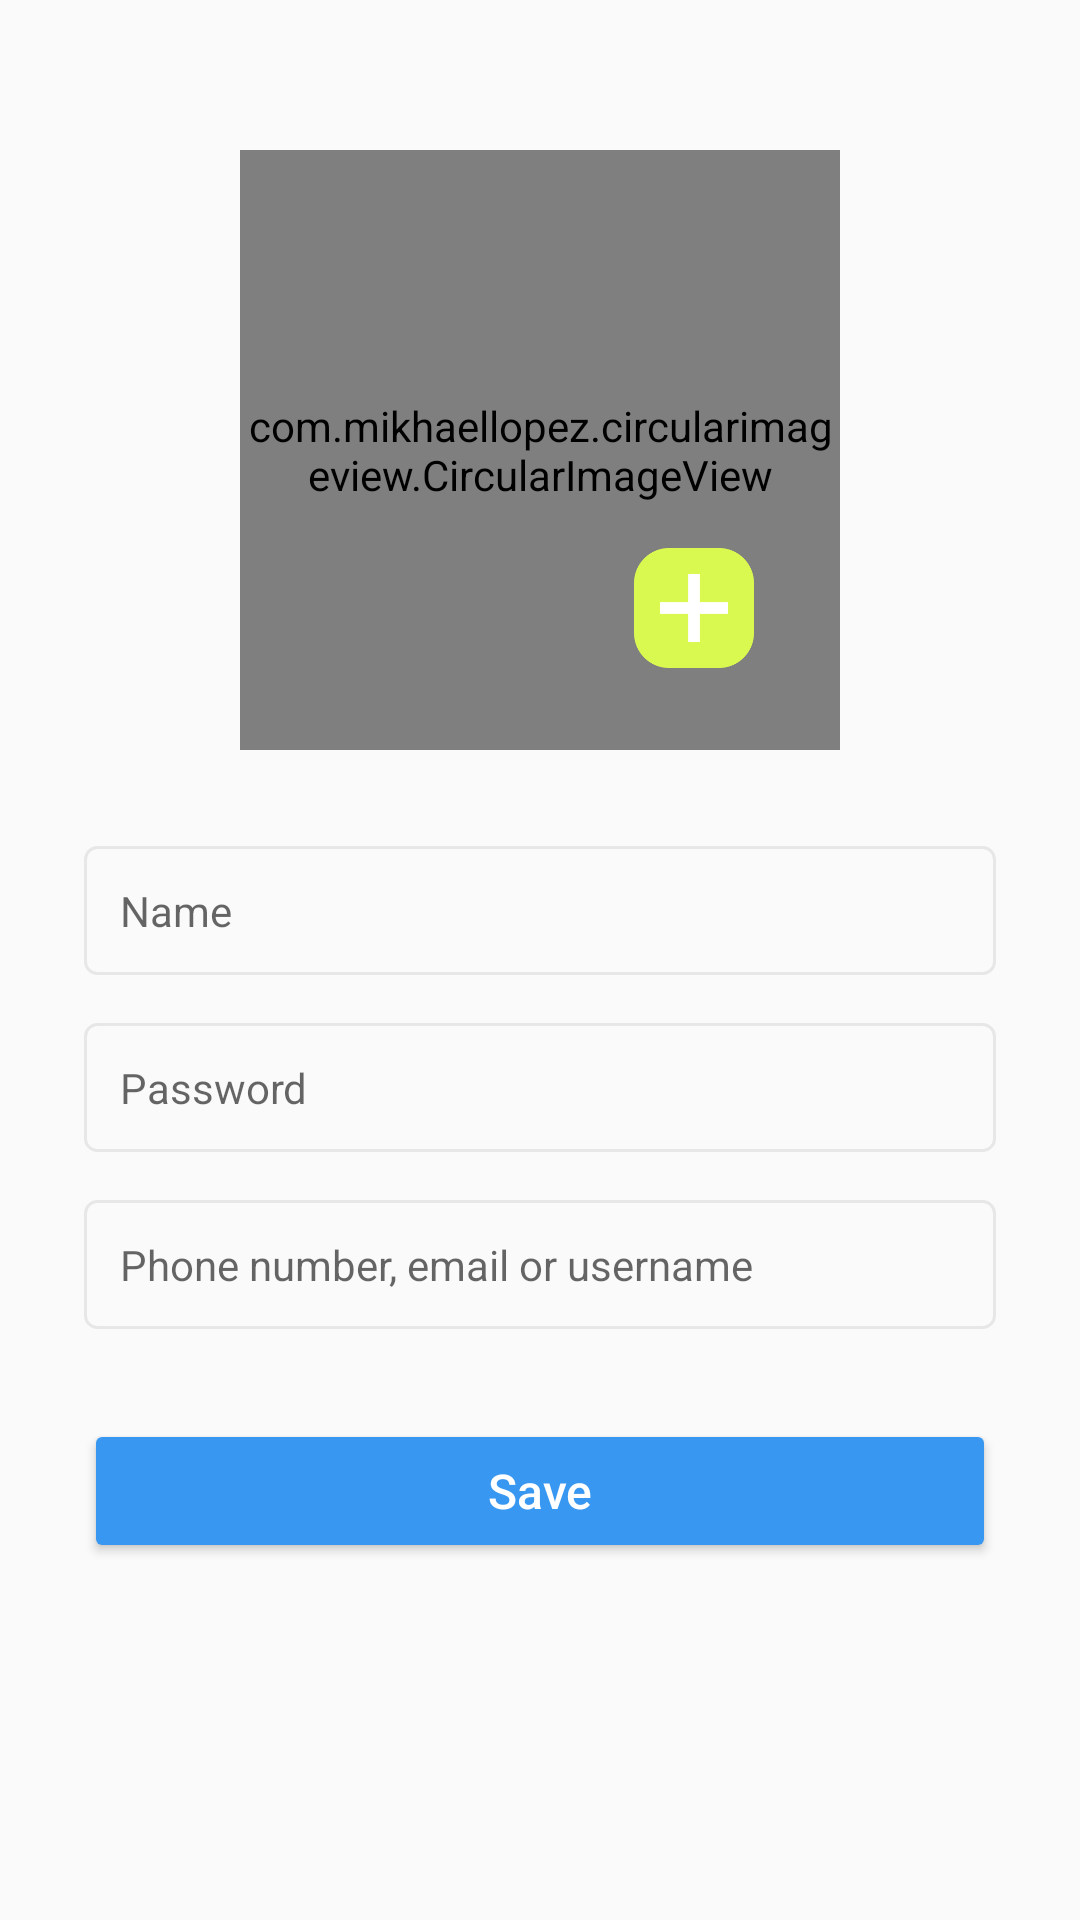

Icon bounding boxes for this 1080px×1920px phone screenshot, format (x1, y1, x2, y2):
plus: (634, 548, 754, 668)
